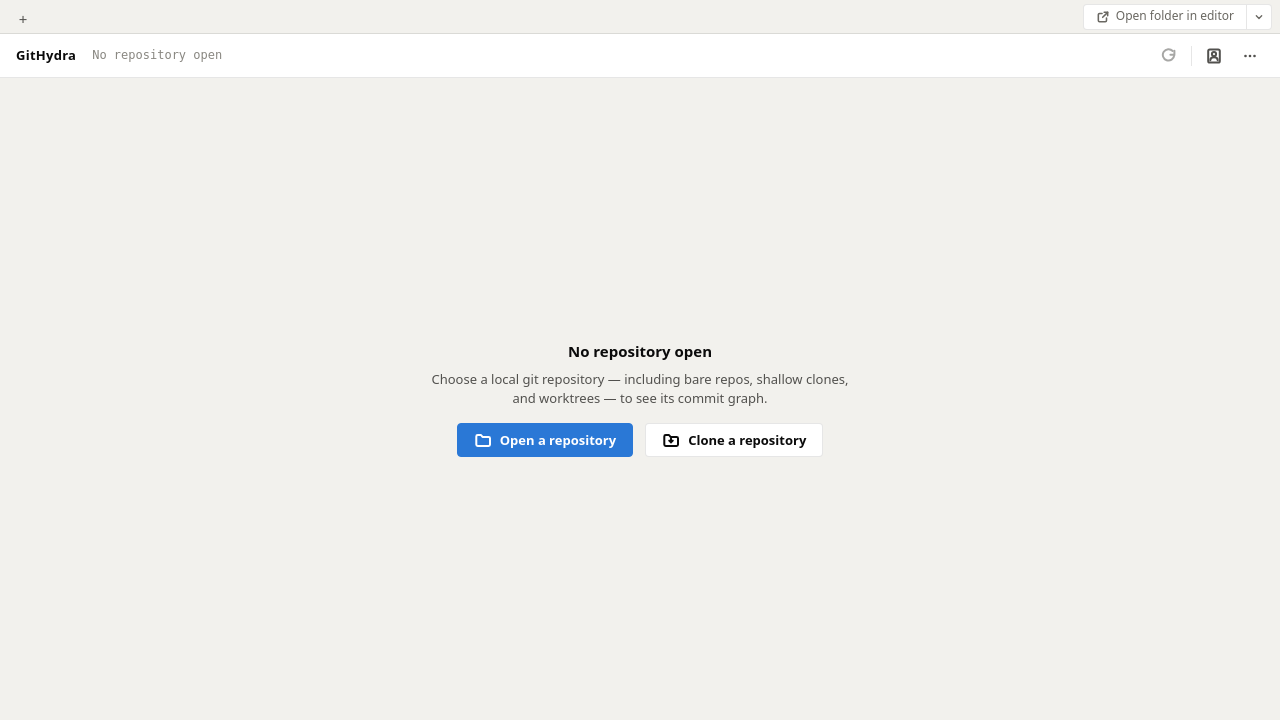
Test case: App › Find Commits overlay (specs/find-commits-overlay.md) › AC9: switching away from the tab that has the overlay open closes it and clears the filter on that tab, confirmed by reactivating it
Click the button "Open a repository".
click(545, 440)  # box 457,423 -> 633,457
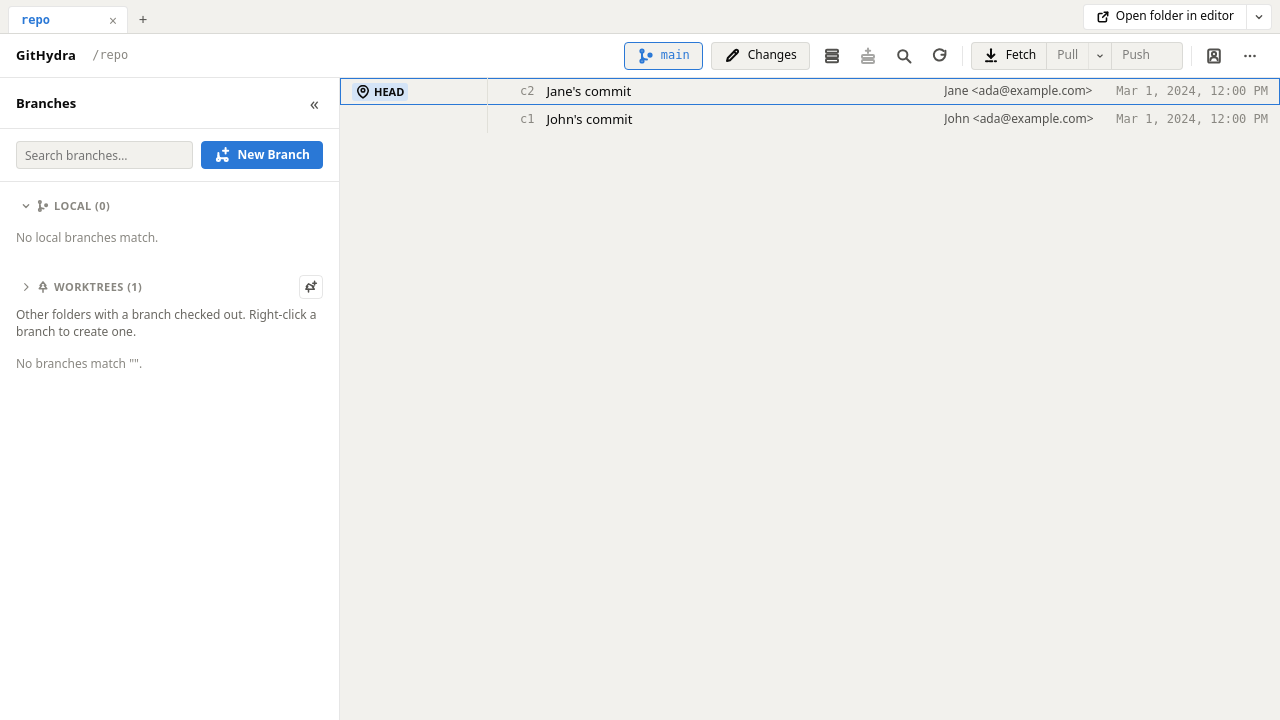
Result: the text "Jane's commit" is shown at 546,82 -> 631,100
Click the button named "find commits".
click(904, 56)  # box 890,42 -> 918,70
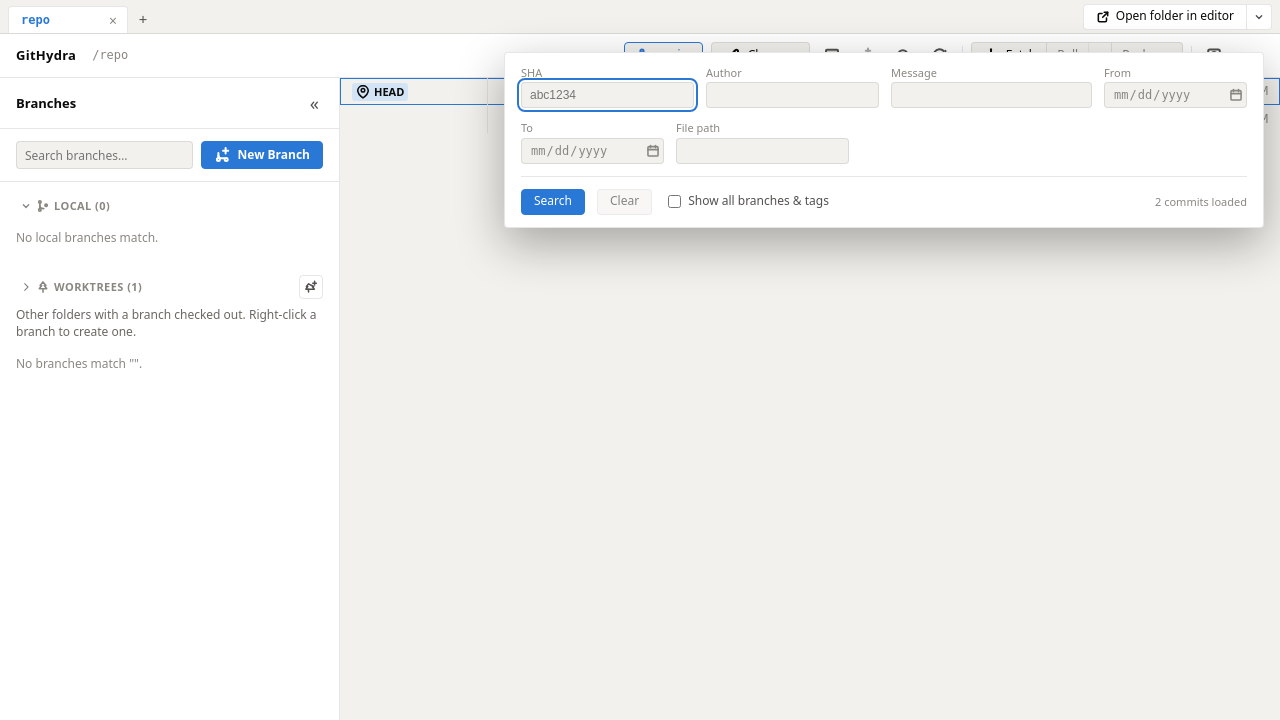
Type "Jane" into the field labelled "Author".
click(792, 95); type("Jane")  # box 706,82 -> 879,108
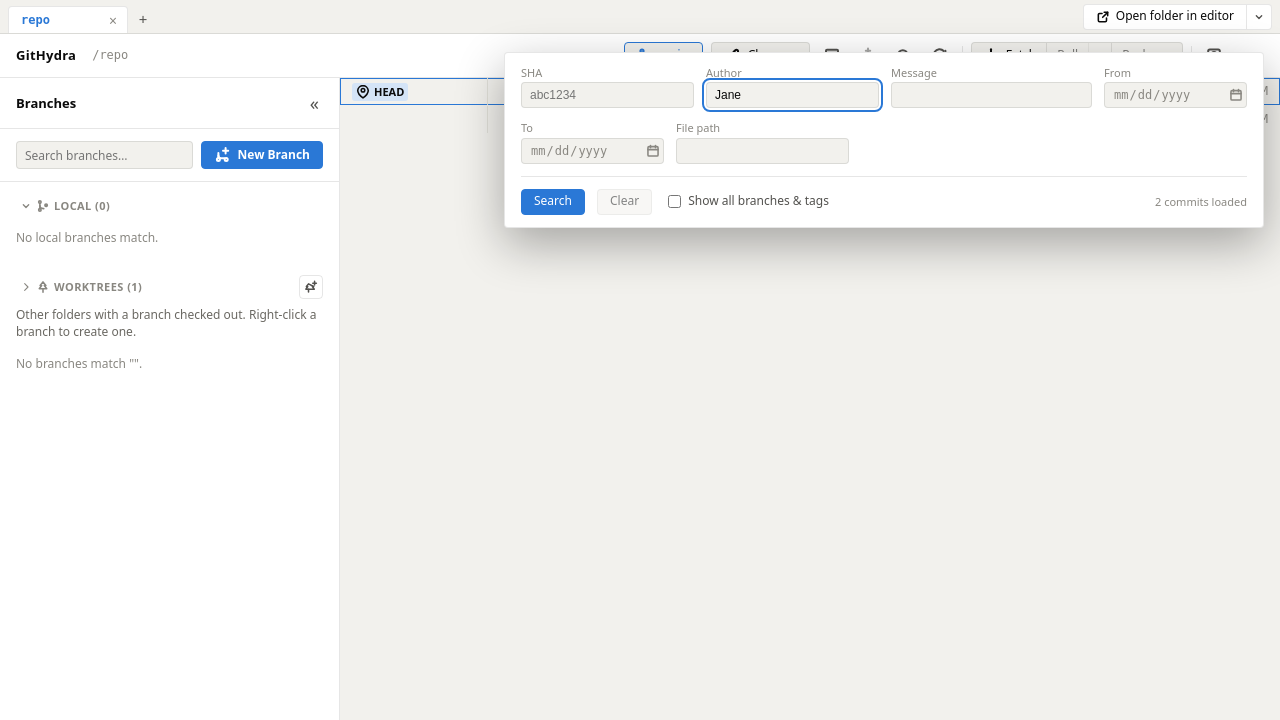
Click the button "Search".
click(553, 202)  # box 521,189 -> 585,215
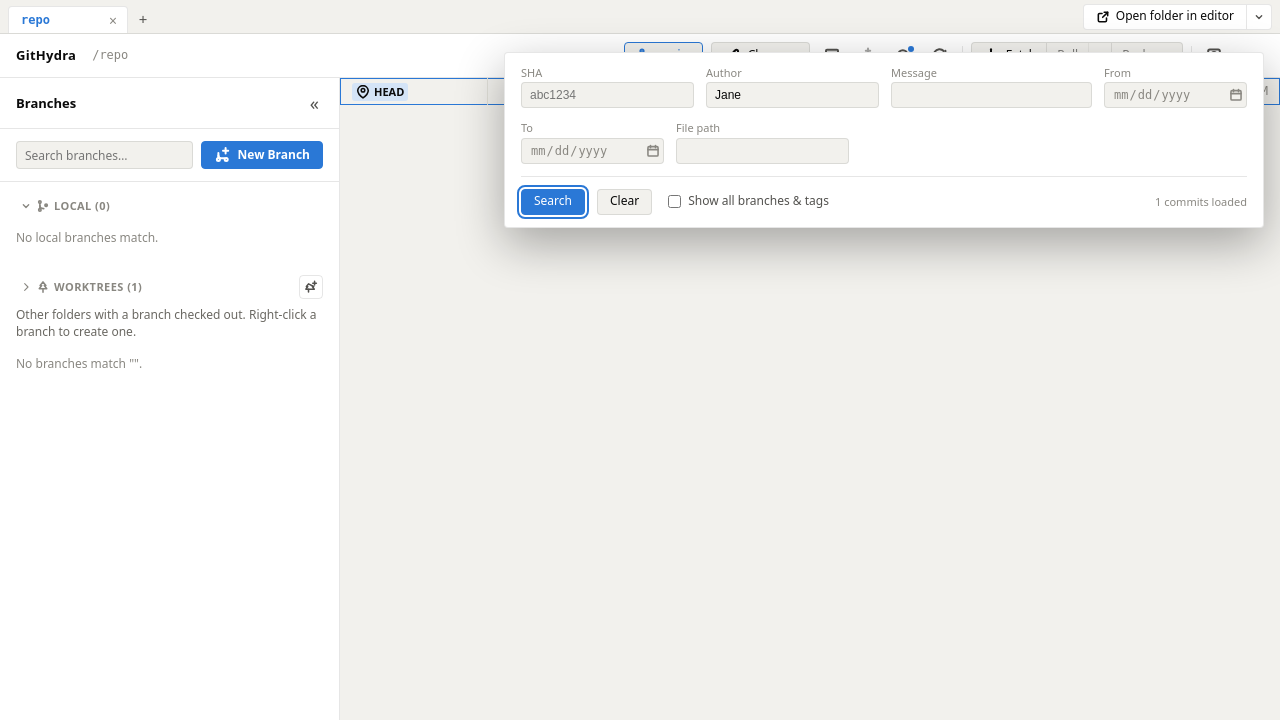
Result: the option "John's commit" is gone
Click the button named "open a repository in a new tab".
click(143, 19)  # box 130,5 -> 156,33
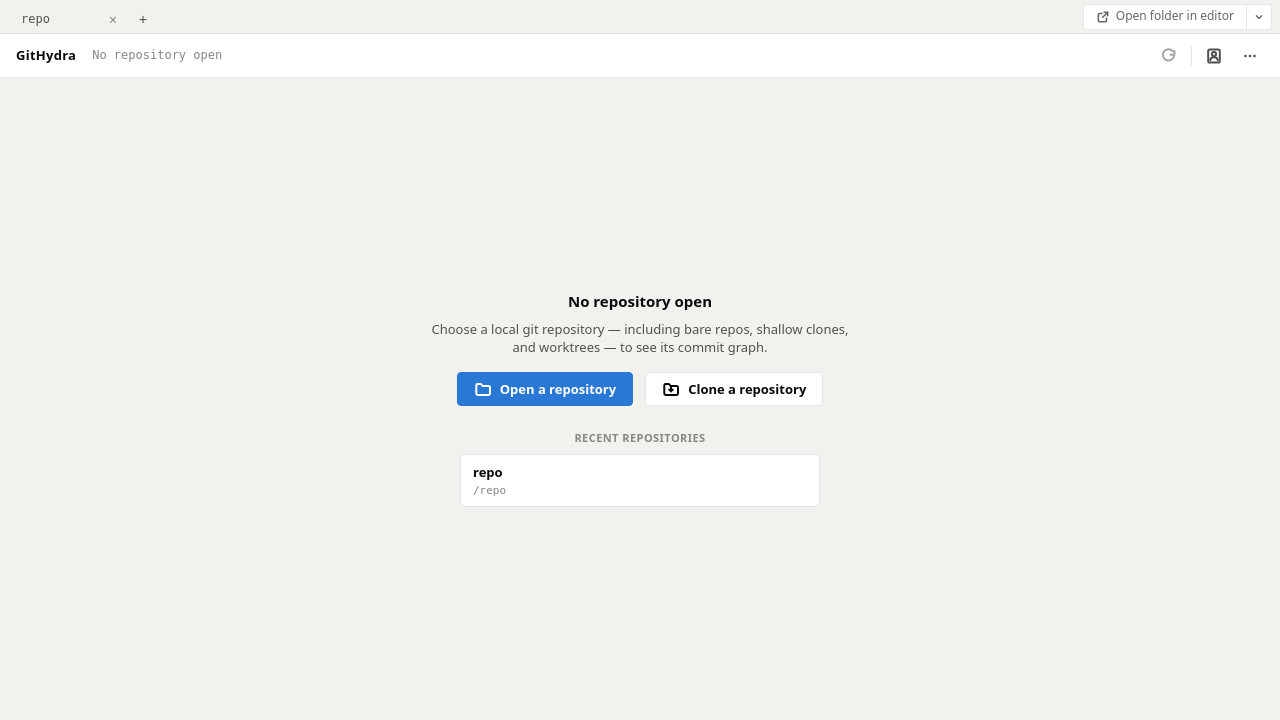
Expected: the element "find commits" is not shown
Result: the message shows "No repository open" at 568,291 -> 712,311
Click the tab "repo".
click(60, 20)  # box 17,11 -> 103,28
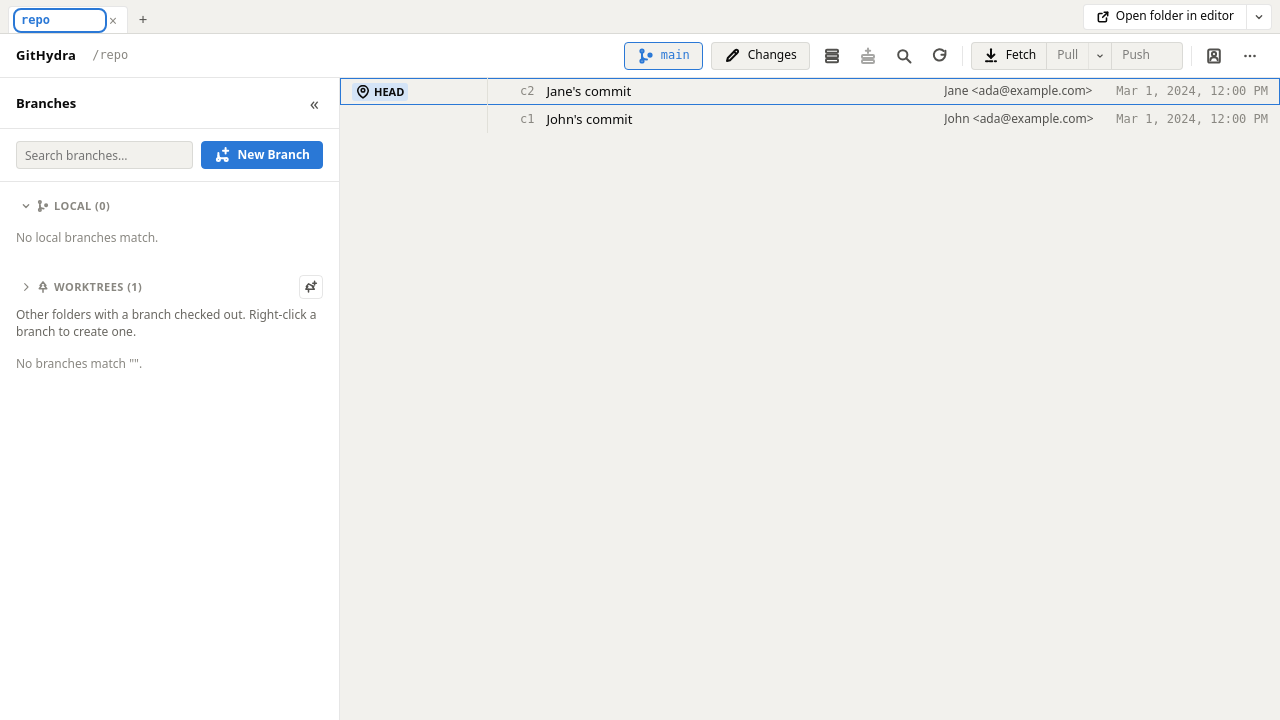
Result: the text "John's commit" is shown at 546,110 -> 632,128
Result: the text "Jane's commit" is shown at 546,82 -> 631,100
